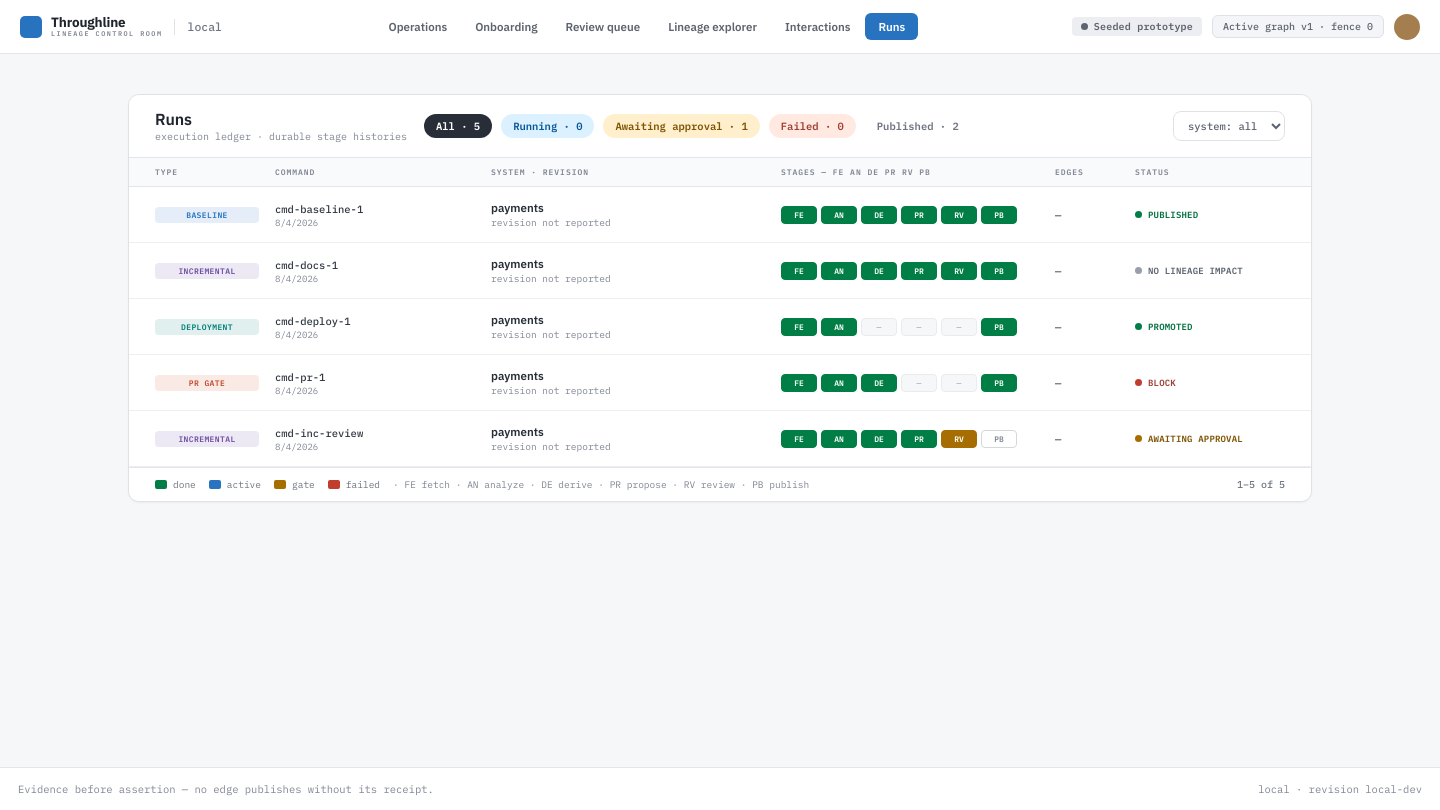
expanding a waiting run offers in-place triage with review and compare
The width and height of the screenshot is (1440, 810).
Click the button named "Stage pipeline for cmd-inc-review".
click(207, 438)  # box [129,411,1311,466]
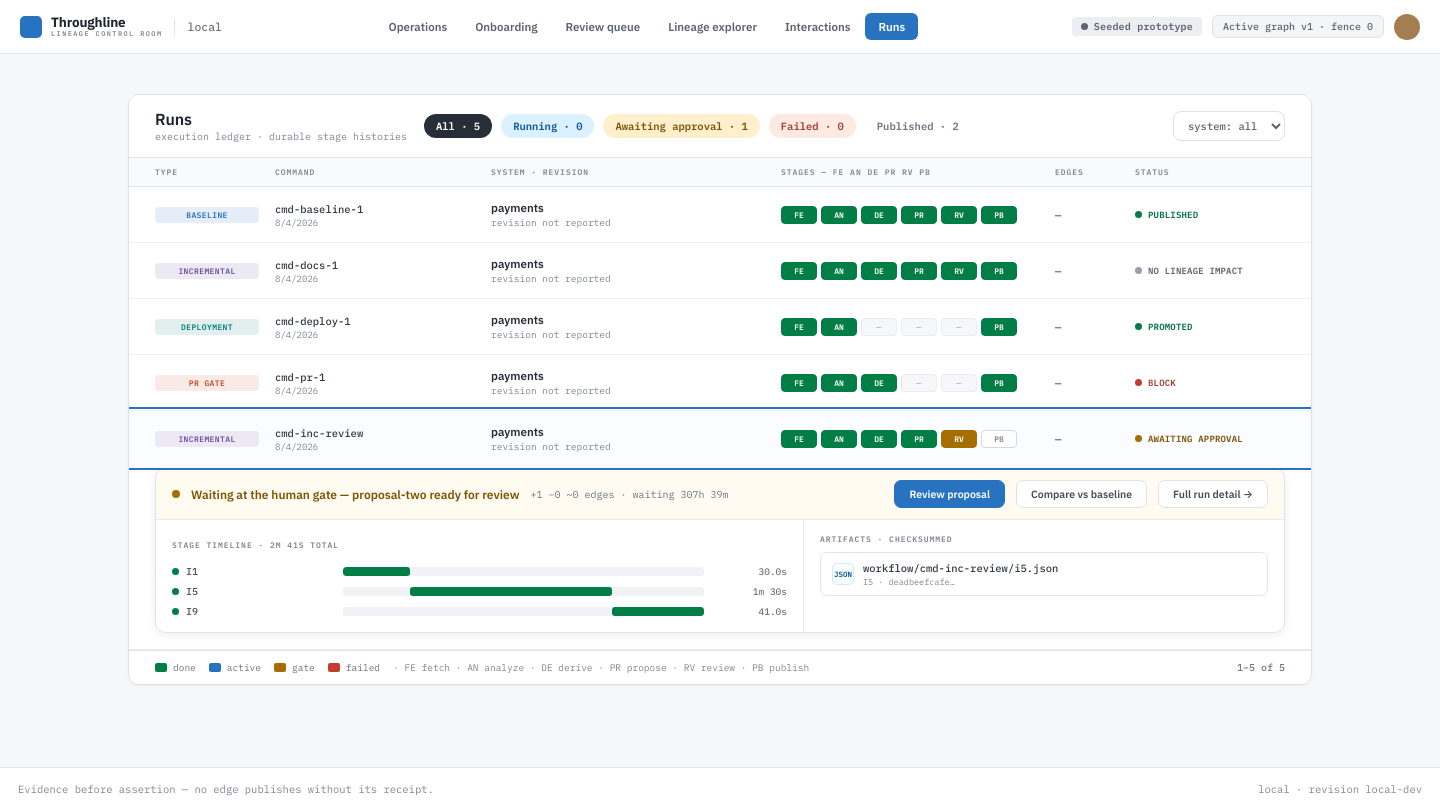
Expected: the text "Waiting at the human gate — proposal-two ready for review" is shown, [191,486,520,502]
Expected: the text "+1 −0 ~0 edges · waiting 307h 39m" is shown, [530,488,728,500]
Expected: the text "I5" is shown, [186,585,198,598]
